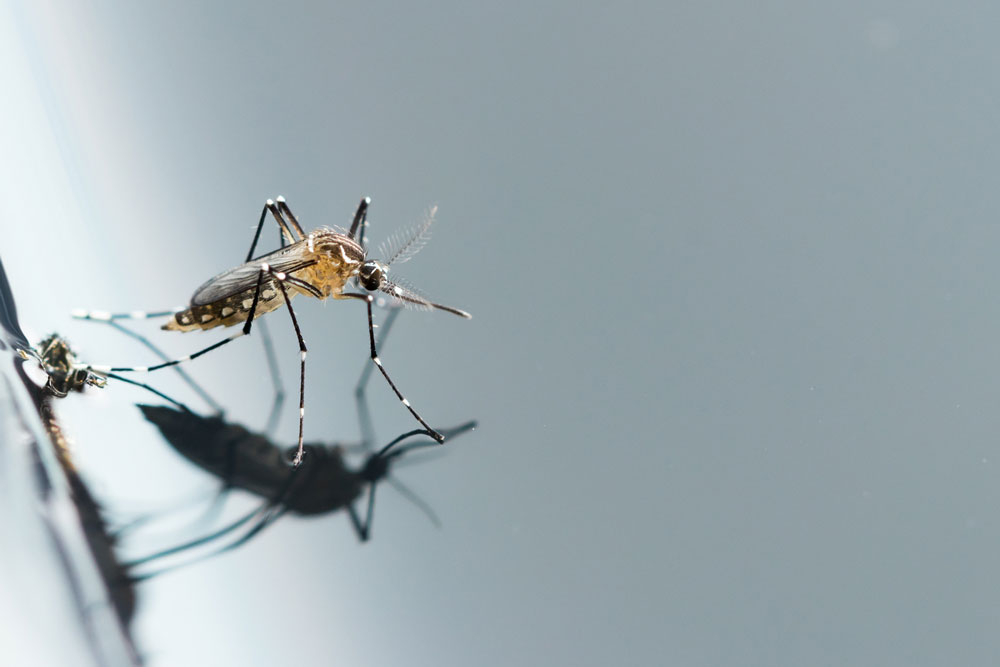mosquito: (77, 185, 509, 476)
